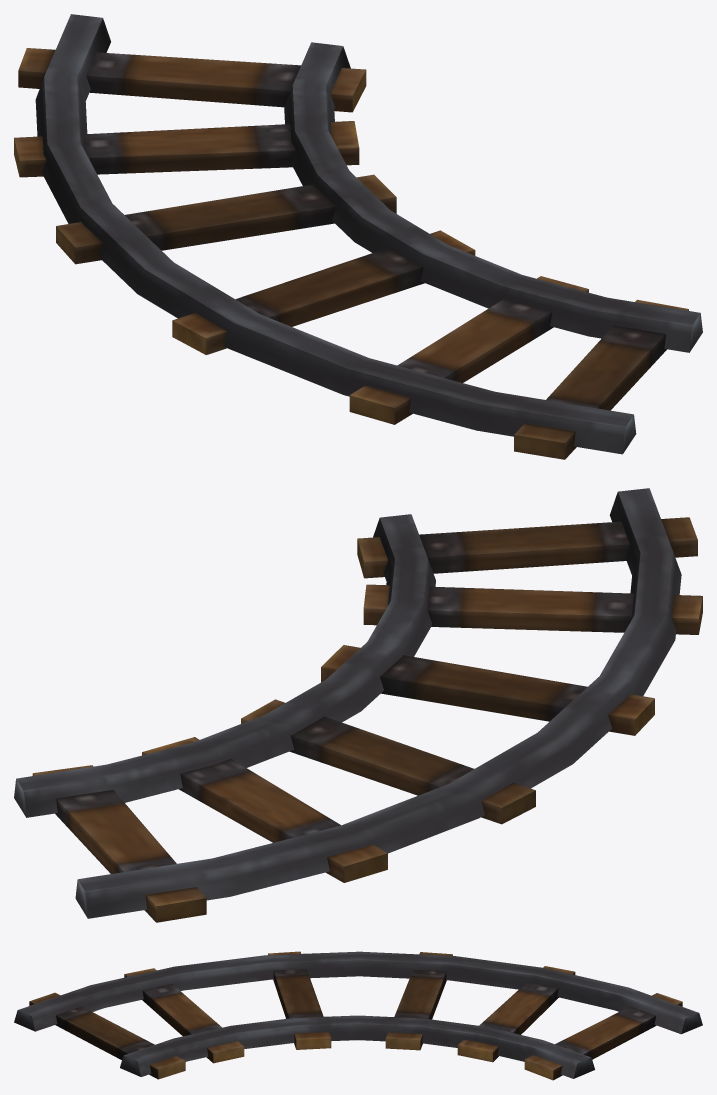
The model's file is Wagon_tracks2.fbx.
The picture shows the model from 3 angles, top to bottom: view 1: azimuth 30°, elevation 25°; view 2: azimuth 150°, elevation 25°; view 3: azimuth 270°, elevation 25°; orthographic projection. The views are drawn at different scales.
Visible parts, largest first — view 1: Wagon_tracks2; view 2: Wagon_tracks2; view 3: Wagon_tracks2.
Part boxes in pixels (x1,y1,x2,y2): Wagon_tracks2: (14, 14, 702, 459); Wagon_tracks2: (14, 488, 702, 922); Wagon_tracks2: (14, 951, 702, 1080).
Bounding box in the file's own units: 178 × 11.29 × 434.
Materials: 1 (1 with a texture image).
